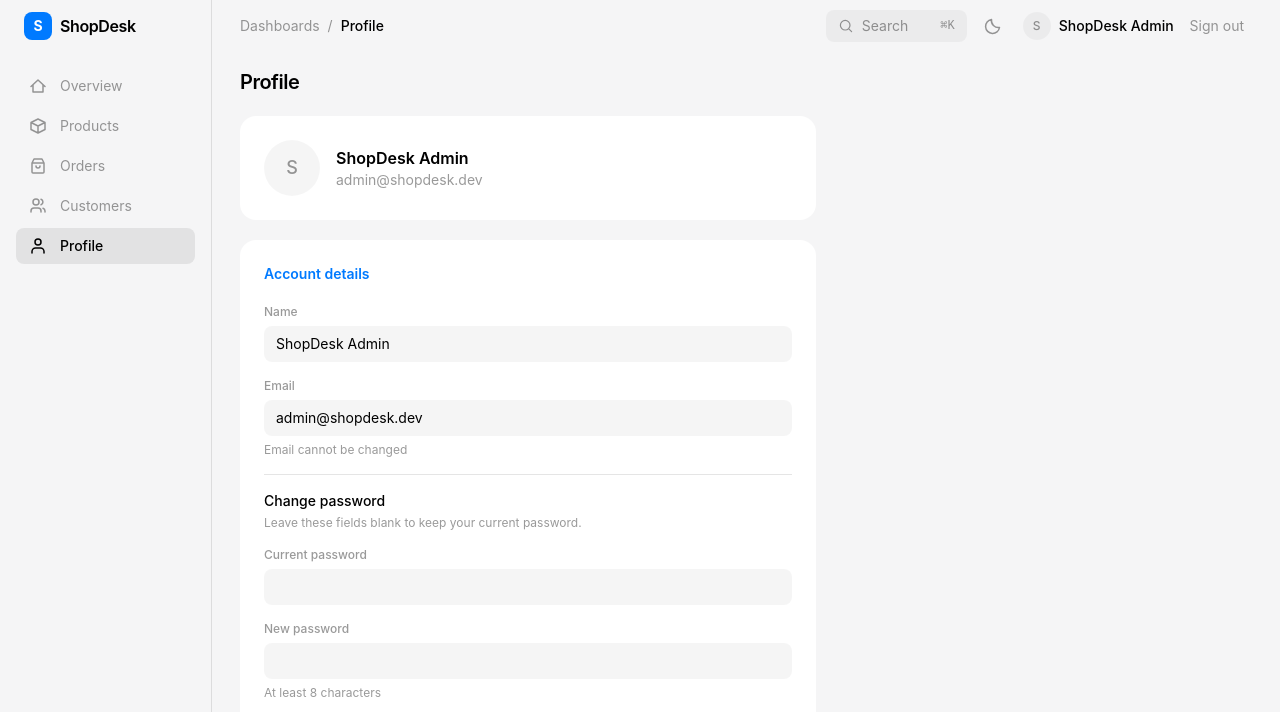
name updates › saves only the changed name and syncs the auth provider
Replace the text in the field labelled "Name" with "Renamed Admin" at (528, 344), box [276,334,780,354]
(page scrolled)
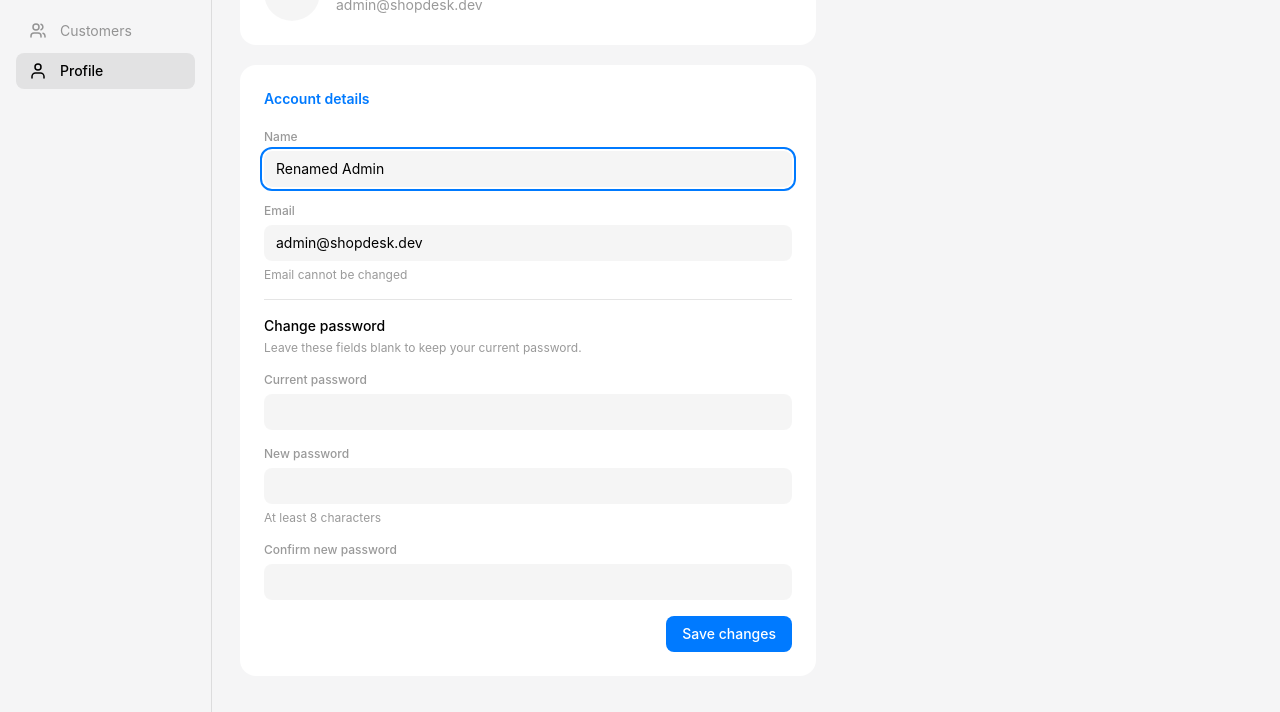
Click the button "Save changes".
click(729, 634)  # box [666,616,792,652]
(page scrolled)
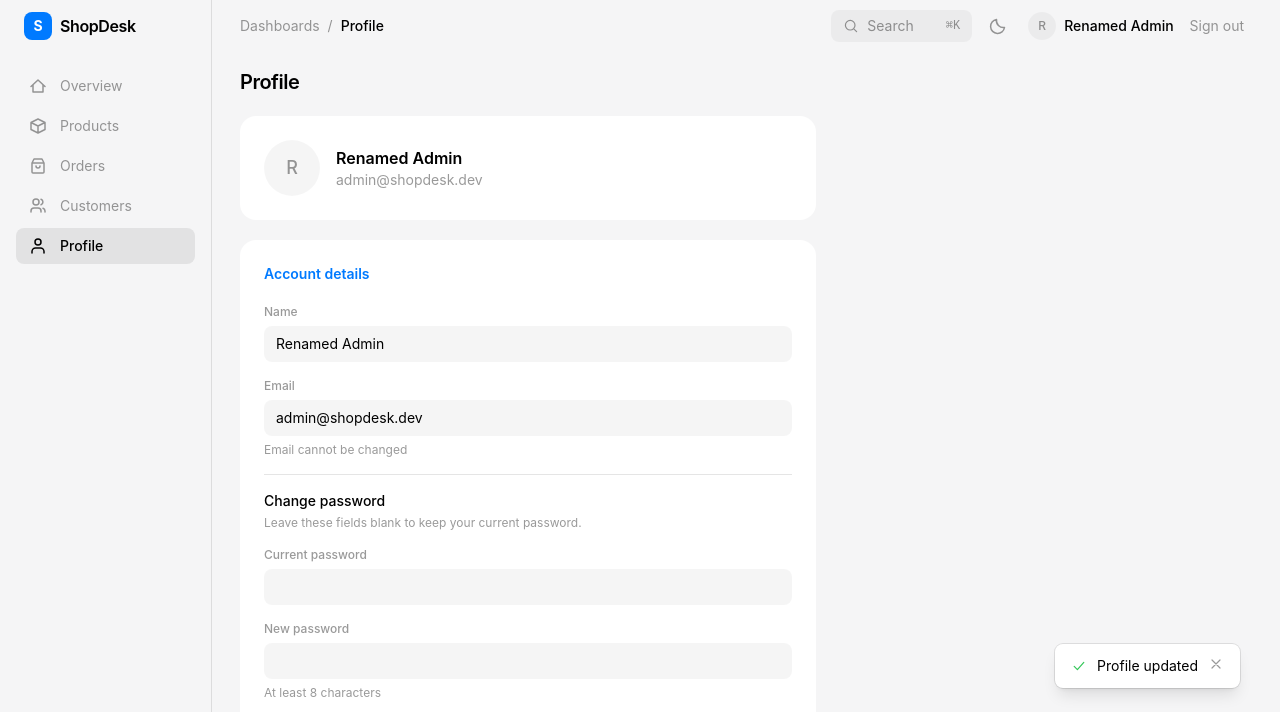
Expected: the text "Profile updated" is shown, [1097,656,1198,676]
Expected: the text "Renamed Admin" in the row of "⌘K" is shown, [1064,17,1174,34]
